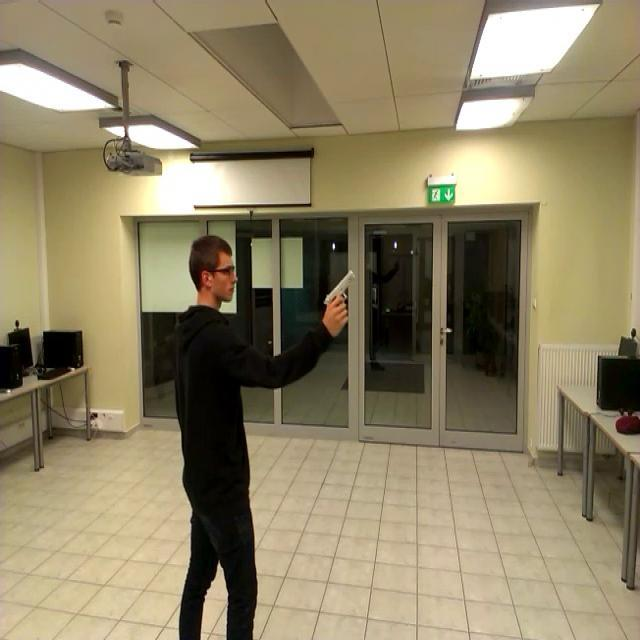gun-knife-thesis - v11 Yolov5 augmented: (311, 261, 356, 339)
